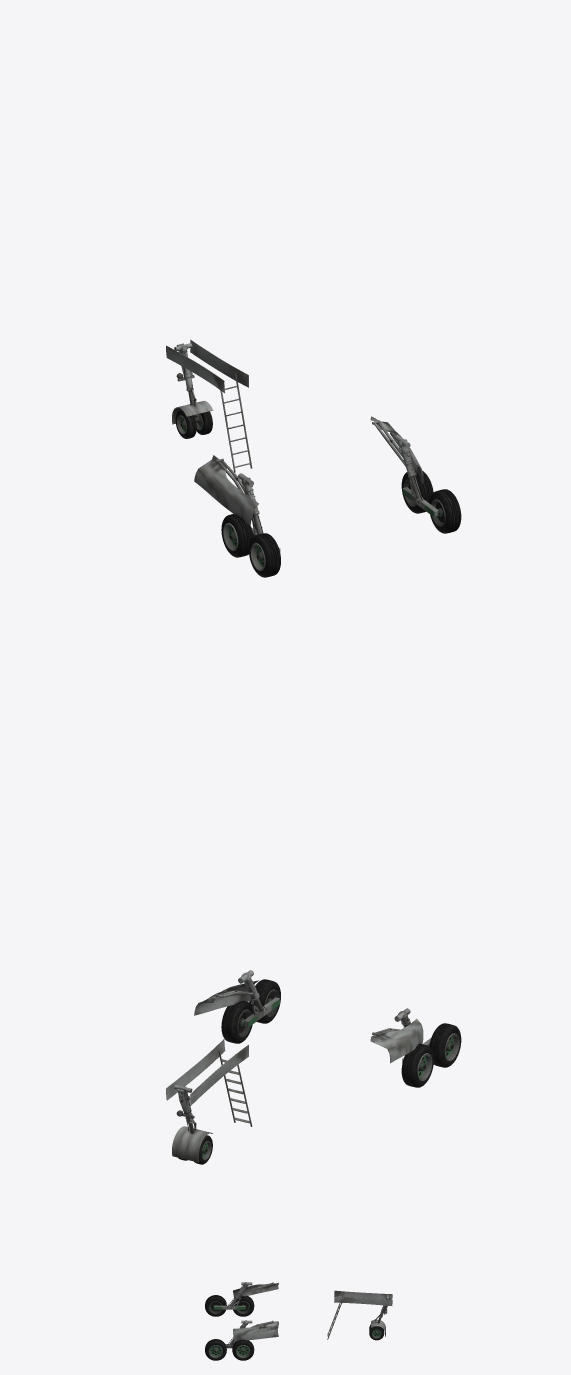
Rendered from e_su34_gear.glb.
3 renders of one model, top to bottom at view 1: azimuth 30°, elevation 25°; view 2: azimuth 150°, elevation 25°; view 3: azimuth 270°, elevation 25°, orthographic. The views are drawn at different scales.
Visible parts, largest first — view 1: body|S34_paint; view 2: body|S34_paint; view 3: body|S34_paint.
Boxes of the visible parts, <box> form: body|S34_paint: <box>166,339,461,577</box>; body|S34_paint: <box>166,970,461,1164</box>; body|S34_paint: <box>205,1282,392,1360</box>.
Bounding box in the file's own units: 4.97 × 6.99 × 23.8.
Materials: 2 (1 with a texture image).
